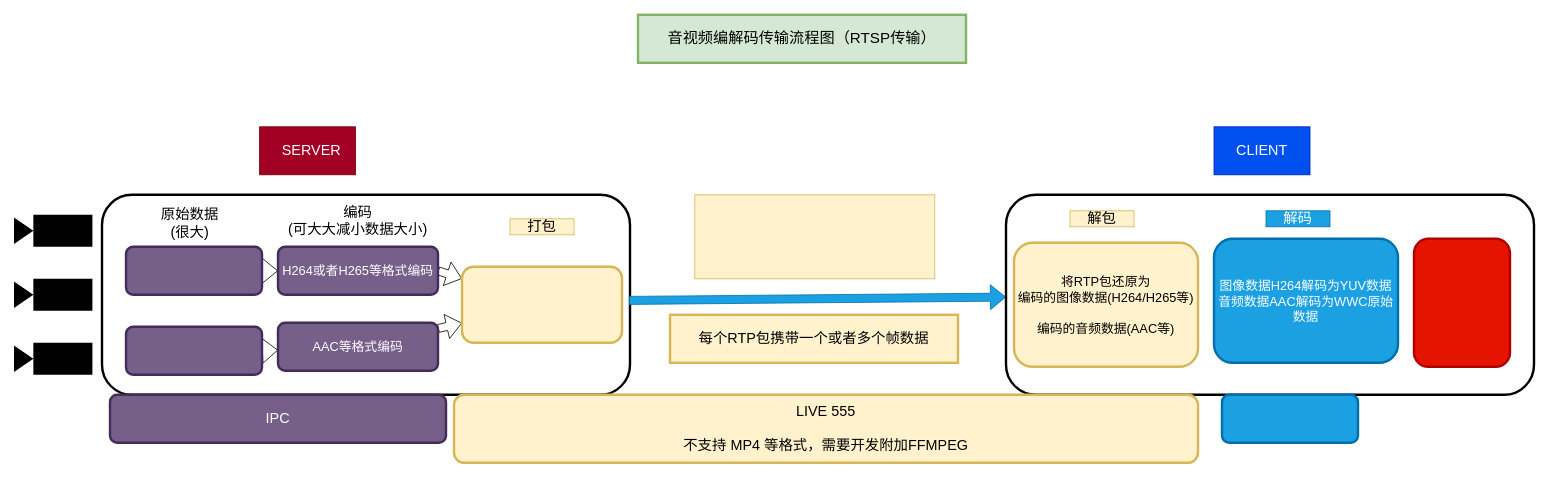
Image size: 1549x478. Some labels were removed from this diagram. Here are the shapes that lost their labels. From the top down, the centre of each, then its label:
At (814,236): "RTSP交互协商 RTP的数据端口（奇数端口） RTCP数据控制端口（偶数端口） 一般为连续的两个端口".
At (193,270): "YUV图像数据".
At (541,304): "PS/TS流".
At (1461,302): "后续处理 格式转换等".
At (193,350): "WWC音频数据".
At (1289,418): "FFMPEG".
